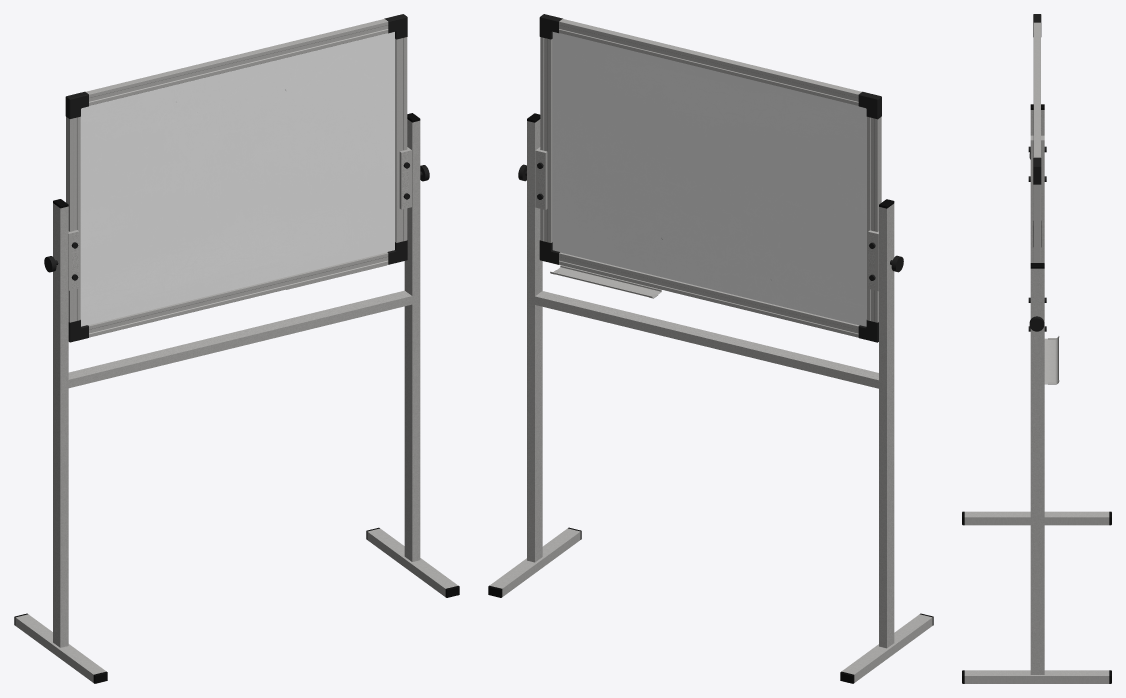
The model's file is baiban_daijiazi.fbx.
The picture shows the model from 3 angles, left to right: view 1: azimuth 30°, elevation 25°; view 2: azimuth 150°, elevation 25°; view 3: azimuth 270°, elevation 25°; orthographic projection. The views are drawn at different scales.
Visible parts, largest first — view 1: polySurface63, polySurface64; view 2: polySurface63, polySurface64; view 3: polySurface64.
Boxes of the visible parts, <box> form: polySurface63: <box>80,32,395,326</box>; polySurface64: <box>14,14,459,683</box>; polySurface63: <box>552,32,866,326</box>; polySurface64: <box>488,14,933,683</box>; polySurface64: <box>962,14,1111,683</box>.
Size of the model in its own units: 144 by 201 by 53.35.
